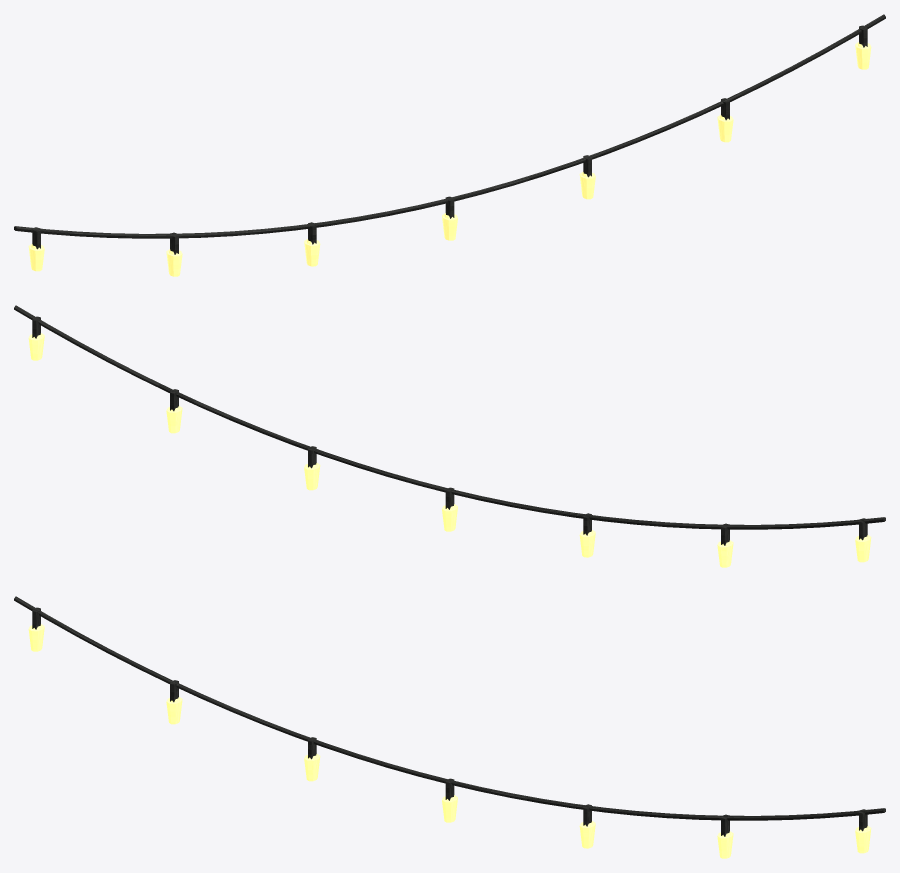
The model's file is string_lights_medium.glb.
3 renders of one model, top to bottom at view 1: azimuth 30°, elevation 25°; view 2: azimuth 150°, elevation 25°; view 3: azimuth 330°, elevation 25°, orthographic.
Parts seen in each view (by area): view 1: string_lights_medium; view 2: string_lights_medium; view 3: string_lights_medium.
Part boxes in pixels (<box>): string_lights_medium: <box>14,14,885,276</box>; string_lights_medium: <box>14,305,885,567</box>; string_lights_medium: <box>14,596,885,858</box>.
Bounding box in the file's own units: 4.05 × 0.525 × 0.0779.
Materials: 2 (2 with a texture image).
